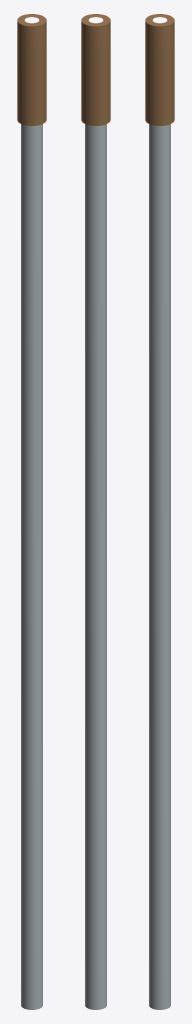
The model's file is glassblowing-studio-and-gallery-blowpipe-b492ede2__29589.glb.
The picture shows the model from 3 angles, left to right: view 1: azimuth 30°, elevation 25°; view 2: azimuth 150°, elevation 25°; view 3: azimuth 330°, elevation 25°; orthographic projection.
Visible parts, largest first — view 1: blowpipe; view 2: blowpipe; view 3: blowpipe.
Part boxes in pixels (x1,y1,x2,y2): blowpipe: (17, 14, 46, 1009); blowpipe: (81, 14, 110, 1009); blowpipe: (145, 14, 174, 1009).
Size of the model in its own units: 0.048 by 1.78 by 0.048.
